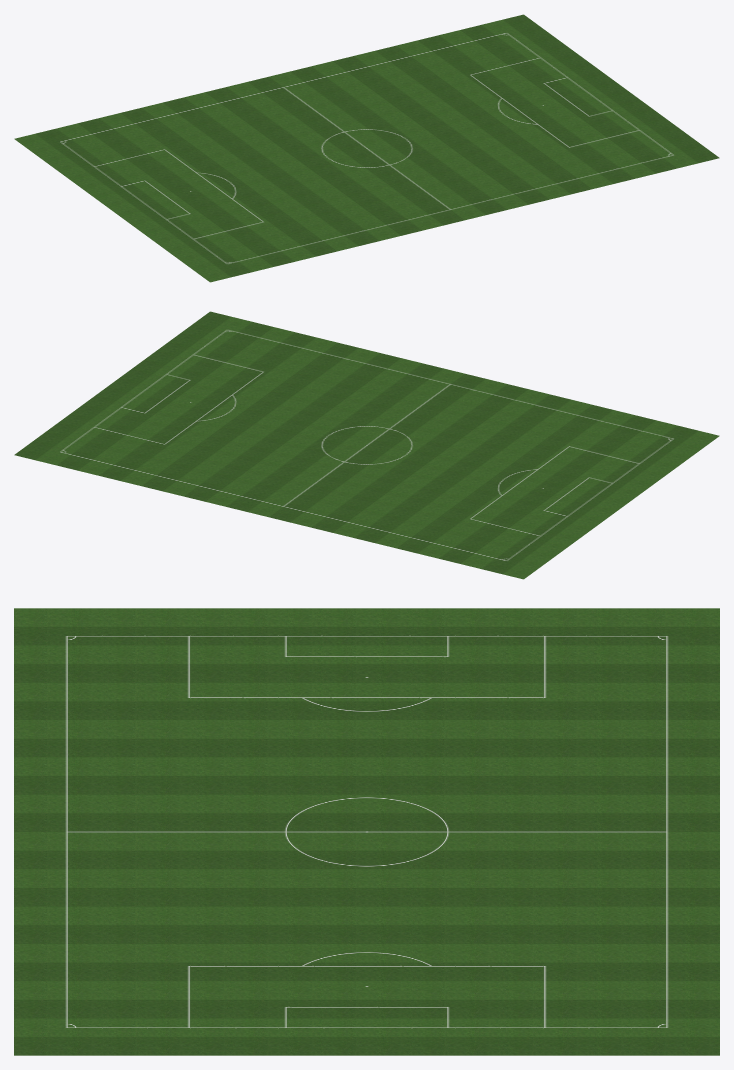
The model's file is pitch-21dys77-.glb.
The picture shows the model from 3 angles, top to bottom: view 1: azimuth 30°, elevation 25°; view 2: azimuth 150°, elevation 25°; view 3: azimuth 270°, elevation 25°; orthographic projection. The views are drawn at different scales.
Visible parts, largest first — view 1: pitch; view 2: pitch; view 3: pitch.
Part boxes in pixels (bbox=[...]): pitch: bbox=[14, 14, 719, 282]; pitch: bbox=[14, 311, 719, 579]; pitch: bbox=[14, 608, 719, 1055].
Size of the model in its own units: 120 by 1.78e-14 by 80.
Materials: 1 (1 with a texture image).
